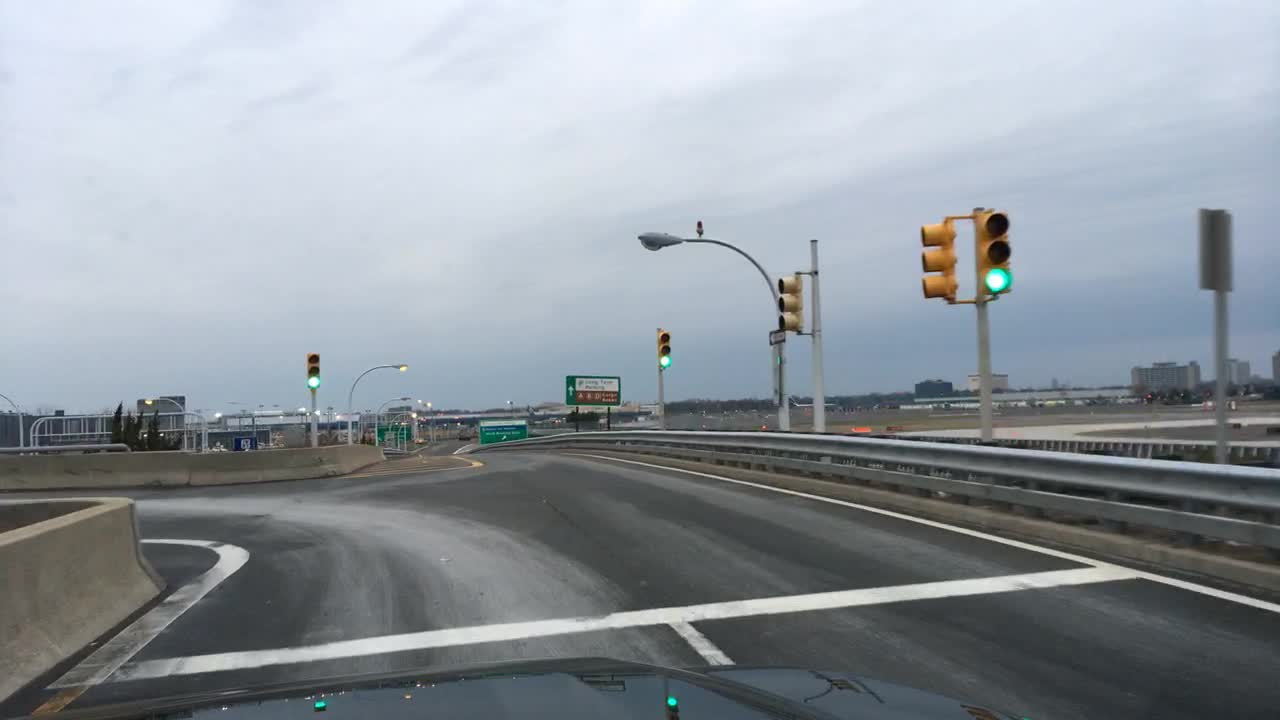car: (456, 432, 470, 442), (416, 436, 427, 442)
traffic light: (976, 204, 1010, 296), (918, 224, 955, 300), (776, 277, 799, 335), (655, 330, 671, 368), (306, 349, 320, 388)
traffic sign: (1200, 207, 1232, 288), (139, 396, 182, 431), (565, 377, 620, 403), (479, 421, 525, 441), (376, 426, 411, 444), (237, 436, 257, 451)
